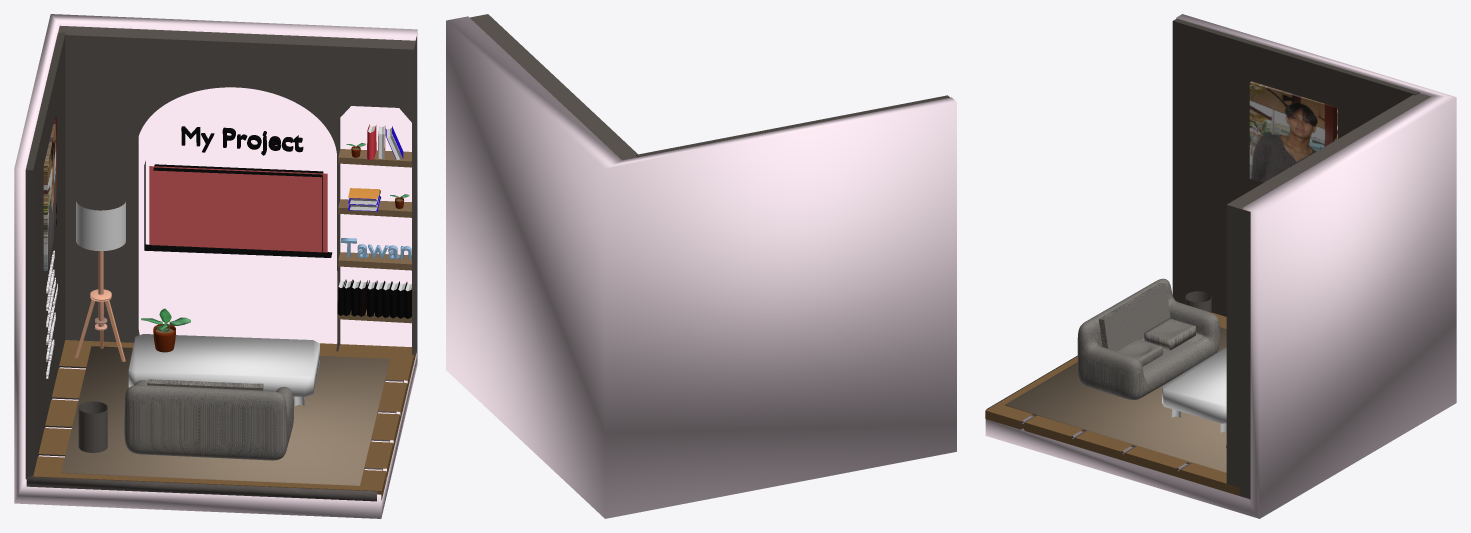
Rendered from room2.glb.
3 renders of one model, left to right at view 1: azimuth 30°, elevation 25°; view 2: azimuth 150°, elevation 25°; view 3: azimuth 270°, elevation 25°, orthographic. The views are drawn at different scales.
Visible parts, largest first — view 1: Cube, ื, Plane, Plane.018, Plane.001, Cube.002, Cube.004, Plane.006, Cube.003, Plane.007, Cylinder.004, Plane.016 (+9 smaller); view 2: Cube, ื, Cube.002; view 3: Cube, Cube.002, Plane, ื, Plane.001, Plane.016, Cube.004, Plane.006, Plane.005, Plane.003, Plane.002.
Boxes of the visible parts, <box> form: Cube: <box>14,14,417,518</box>; ื: <box>58,25,416,355</box>; Plane: <box>61,346,389,485</box>; Plane.018: <box>149,166,327,252</box>; Plane.001: <box>124,380,293,460</box>; Cube.002: <box>25,32,65,479</box>; Cube.004: <box>31,340,415,500</box>; Plane.006: <box>128,334,319,396</box>; Cube.003: <box>26,366,403,501</box>; Plane.007: <box>144,161,332,257</box>; Cylinder.004: <box>76,201,125,250</box>; Plane.016: <box>43,117,56,270</box>; Cube: <box>446,16,956,518</box>; ื: <box>470,14,637,160</box>; Cube.002: <box>636,95,949,157</box>; Cube: <box>985,14,1456,518</box>; Cube.002: <box>1172,18,1419,316</box>; Plane: <box>1005,327,1226,472</box>; ื: <box>1226,93,1431,499</box>; Plane.001: <box>1077,278,1219,400</box>; Plane.016: <box>1249,81,1337,182</box>; Cube.004: <box>985,312,1239,495</box>; Plane.006: <box>1162,347,1226,423</box>; Plane.005: <box>1098,283,1170,350</box>; Plane.003: <box>1144,318,1195,350</box>; Plane.002: <box>1116,339,1163,366</box>.
Bounding box in the file's own units: 6.99 × 5.01 × 6.99.
Materials: 51 (7 with a texture image).
